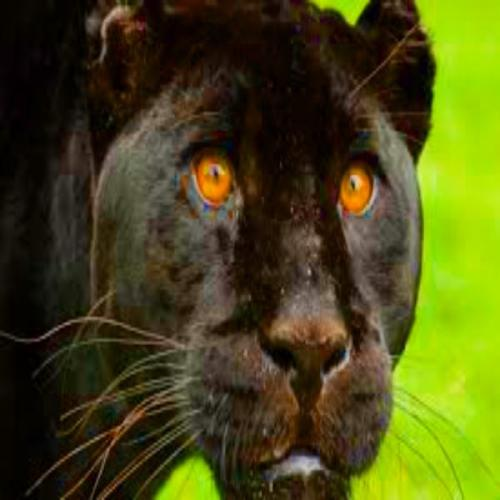panther-endangered: (0, 0, 439, 500)
